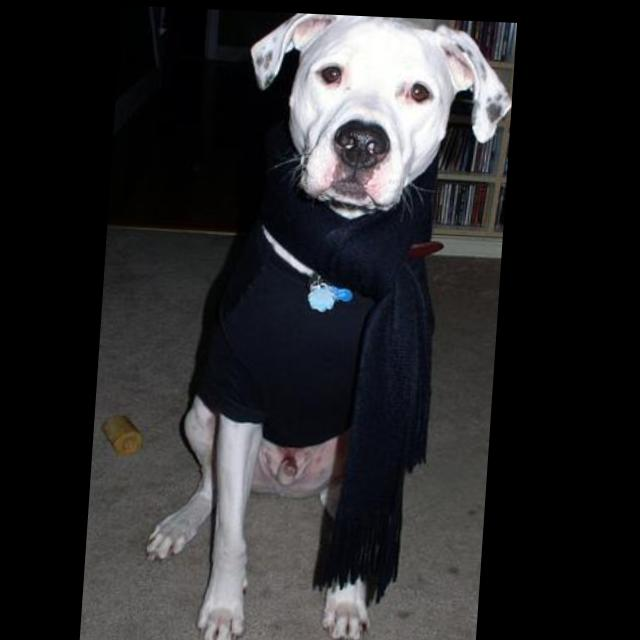amstaff: (149, 7, 519, 640)
